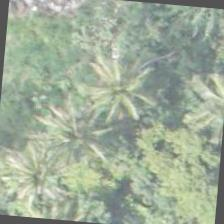Kelapa_Sawit: (68, 38, 166, 136), (23, 82, 121, 180), (0, 131, 82, 221)
